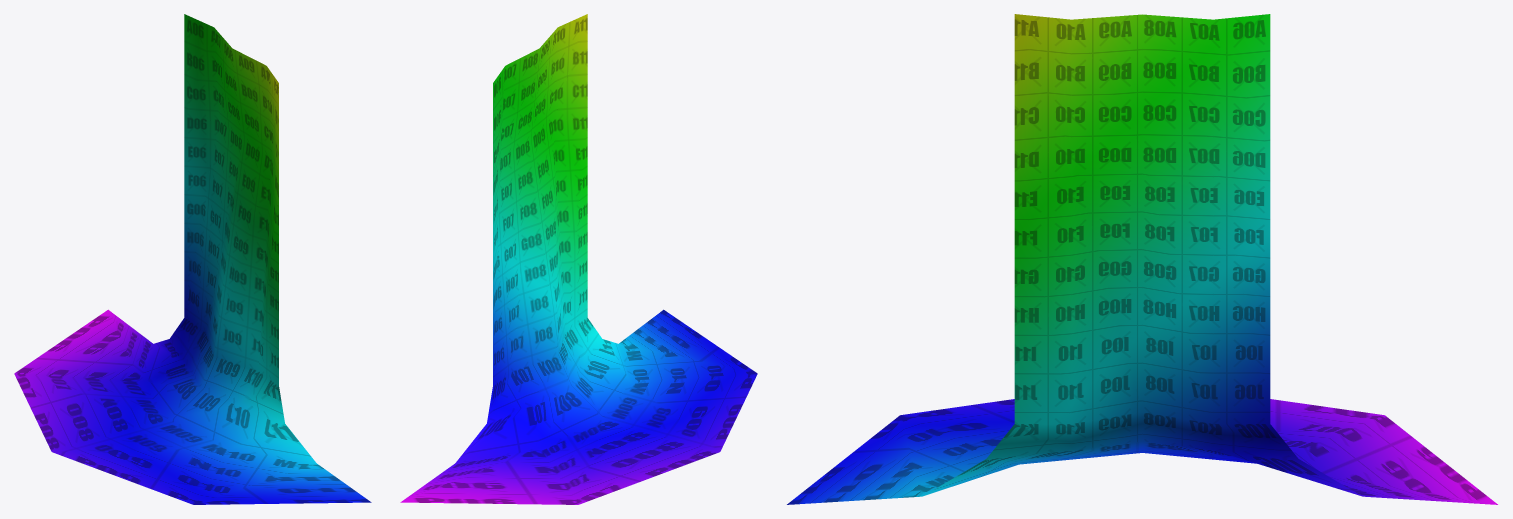
File: fogwall_01.fbx
3 renders of one model, left to right at view 1: azimuth 30°, elevation 25°; view 2: azimuth 150°, elevation 25°; view 3: azimuth 270°, elevation 25°, orthographic. The views are drawn at different scales.
Parts seen in each view (by area): view 1: fogwall_01; view 2: fogwall_01; view 3: fogwall_01.
Boxes of the visible parts, x1=… form: fogwall_01: x1=14, y1=14, x2=371, y2=504; fogwall_01: x1=400, y1=14, x2=757, y2=504; fogwall_01: x1=787, y1=14, x2=1497, y2=504.
Bounding box in the file's own units: 1.01 × 2.39 × 1.8.
